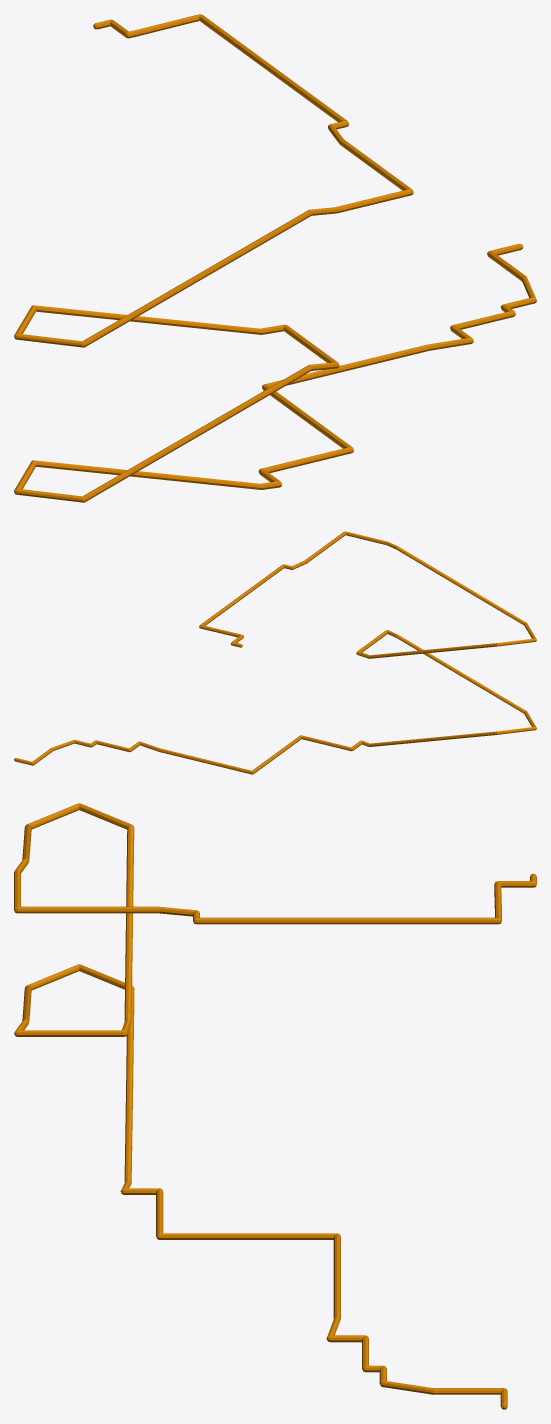
The picture shows the model from 3 angles, top to bottom: view 1: azimuth 30°, elevation 25°; view 2: azimuth 150°, elevation 25°; view 3: azimuth 270°, elevation 25°; orthographic projection. The views are drawn at different scales.
Size of the model in its own units: 2406 by 1020 by 1472.
